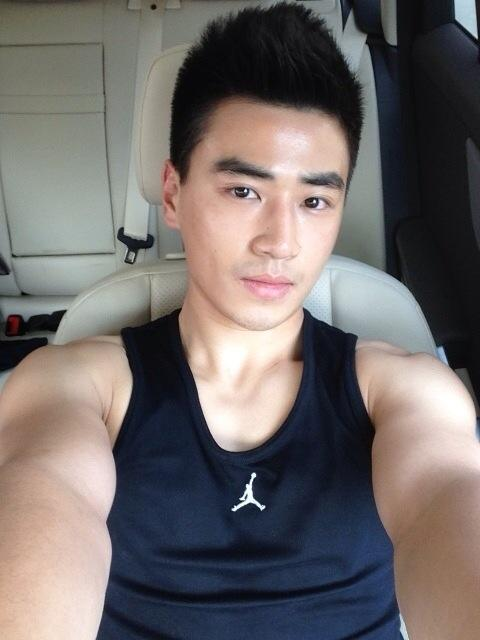person: (65, 1, 388, 454)
